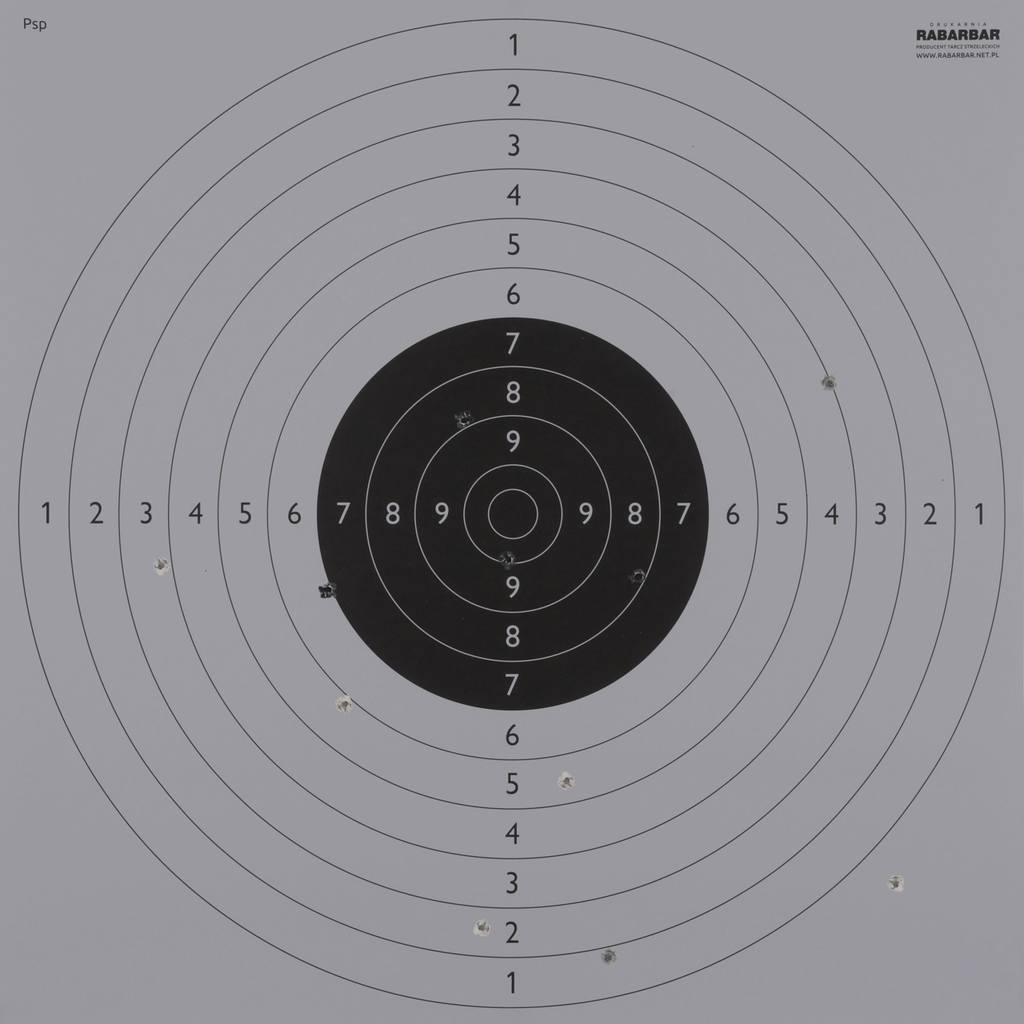0 punktow: (886, 875, 905, 893)
1 punkt: (599, 948, 618, 967)
10 punktow: (499, 550, 517, 569)
2 punkty: (473, 918, 491, 937)
3 punkty: (152, 557, 170, 575)
4 punkty: (820, 374, 839, 393)
5 punktow: (558, 772, 576, 790)
6 punktow: (336, 695, 354, 714)
7 punktow: (318, 581, 337, 599)
8 punktow: (629, 567, 647, 586)
9 punktow: (456, 411, 474, 429)
